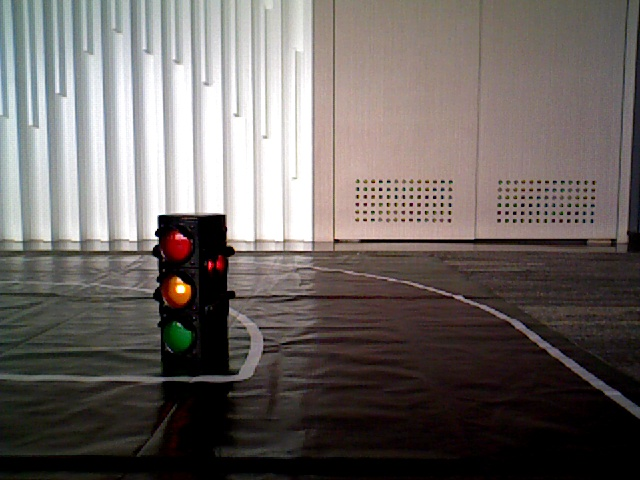yellow: (158, 218, 202, 361)
